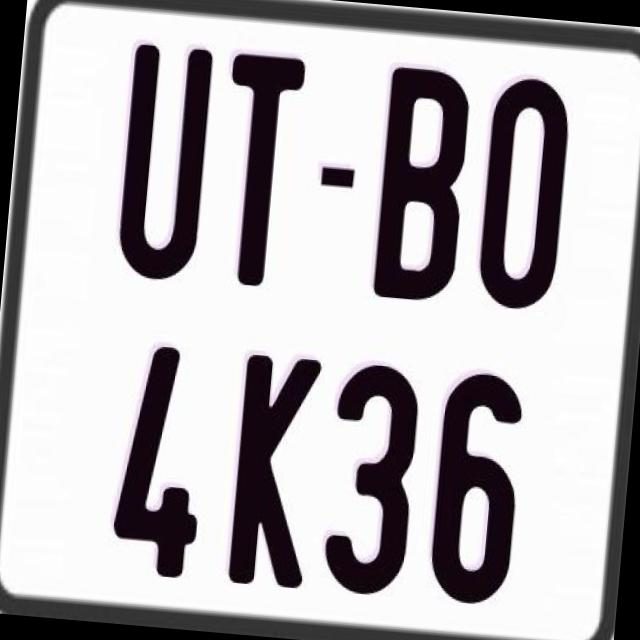0: (474, 76, 574, 316)
3: (320, 357, 420, 595)
4: (106, 338, 212, 574)
6: (423, 370, 525, 612)
B: (369, 62, 473, 300)
K: (228, 349, 330, 584)
T: (210, 46, 304, 284)
U: (110, 38, 213, 284)
